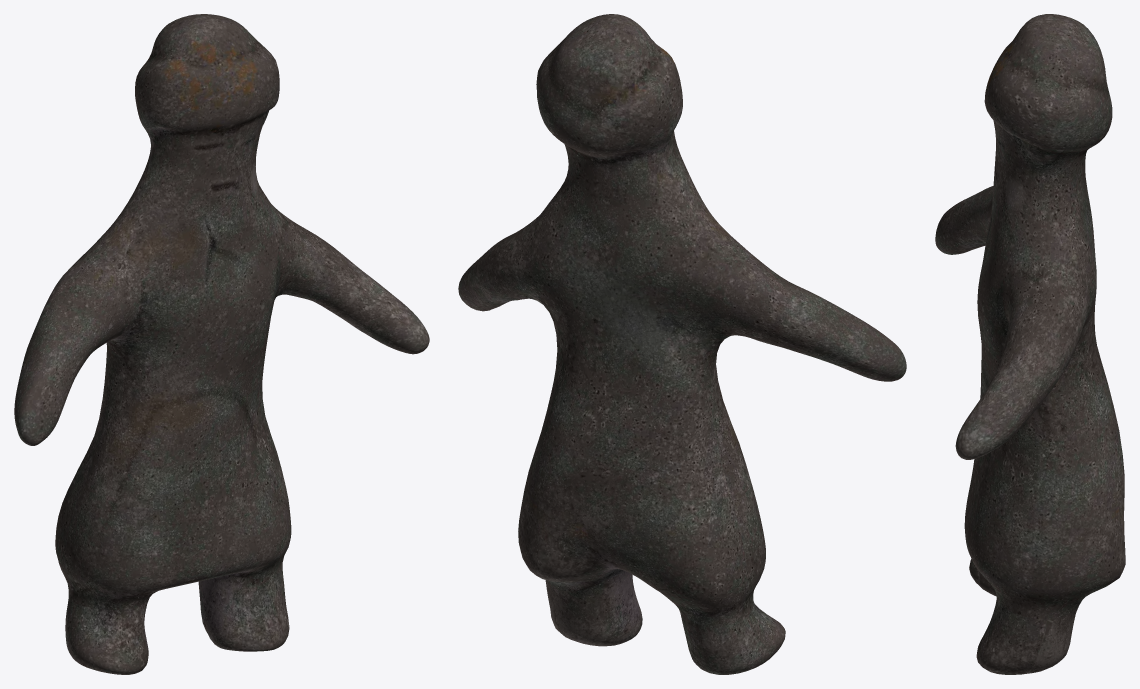
The model's file is tou.glb.
3 renders of one model, left to right at view 1: azimuth 30°, elevation 25°; view 2: azimuth 150°, elevation 25°; view 3: azimuth 270°, elevation 25°, orthographic. The views are drawn at different scales.
Visible parts, largest first — view 1: SM_AR10001_High; view 2: SM_AR10001_High; view 3: SM_AR10001_High.
Boxes of the visible parts, x1,y1,x2,y2 form: SM_AR10001_High: (14, 14, 429, 674); SM_AR10001_High: (458, 14, 906, 674); SM_AR10001_High: (935, 14, 1125, 674).
Bounding box in the file's own units: 0.0693 × 0.0979 × 0.0267.
1 material, 1 textured.
